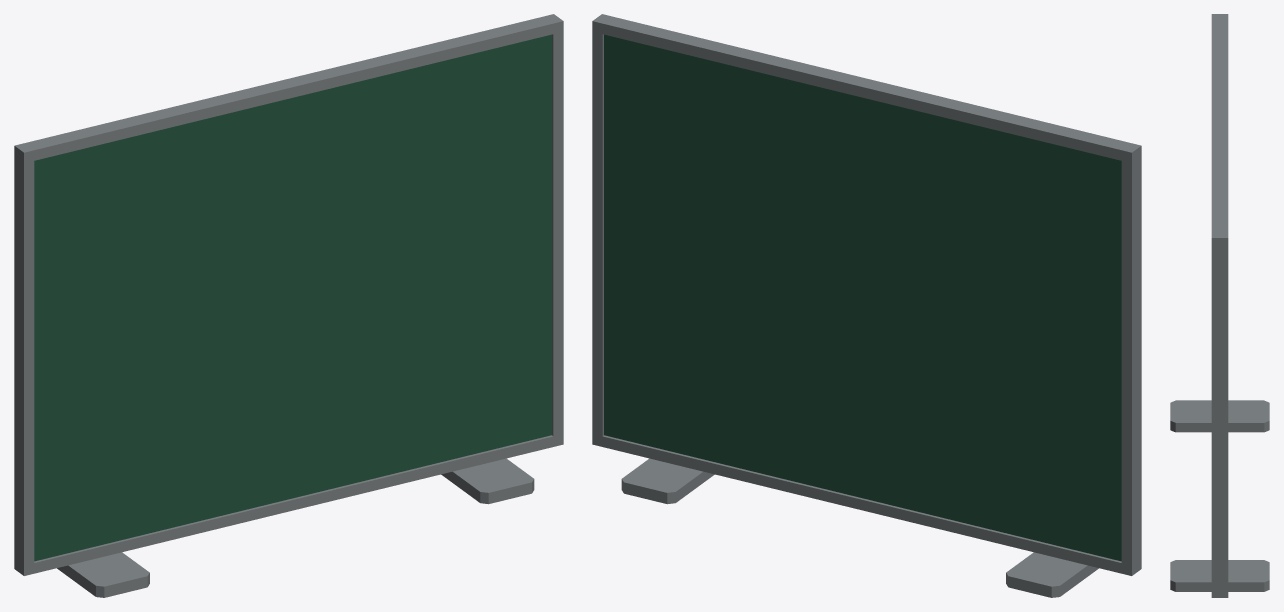
Rendered from partition_panel.glb.
The picture shows the model from 3 angles, left to right: view 1: azimuth 30°, elevation 25°; view 2: azimuth 150°, elevation 25°; view 3: azimuth 270°, elevation 25°; orthographic projection. The views are drawn at different scales.
Parts seen in each view (by area): view 1: Panel, Travesaño.001, Montante, Travesaño, Montante.001, Pie.001, Pie; view 2: Panel, Travesaño.001, Montante, Travesaño, Montante.001, Pie.001, Pie; view 3: Montante.001, Travesaño.001, Pie, Pie.001.
Boxes of the visible parts, x1,y1,x2,y2 form: Panel: (34,34,551,561); Travesaño.001: (14,14,563,163); Montante: (14,143,34,575); Travesaño: (19,434,562,575); Montante.001: (546,14,563,446); Pie.001: (441,458,534,504); Pie: (57,552,149,597); Panel: (604,34,1121,561); Travesaño.001: (592,14,1141,162); Montante: (1121,143,1141,574); Travesaño: (593,435,1137,575); Montante.001: (592,14,611,446); Pie.001: (621,458,714,504); Pie: (1006,552,1098,597); Montante.001: (1211,233,1228,597); Travesaño.001: (1211,14,1228,246); Pie: (1170,400,1269,432); Pie.001: (1170,560,1269,591).
Bounding box in the file's own units: 1.6 × 1.25 × 0.3.
